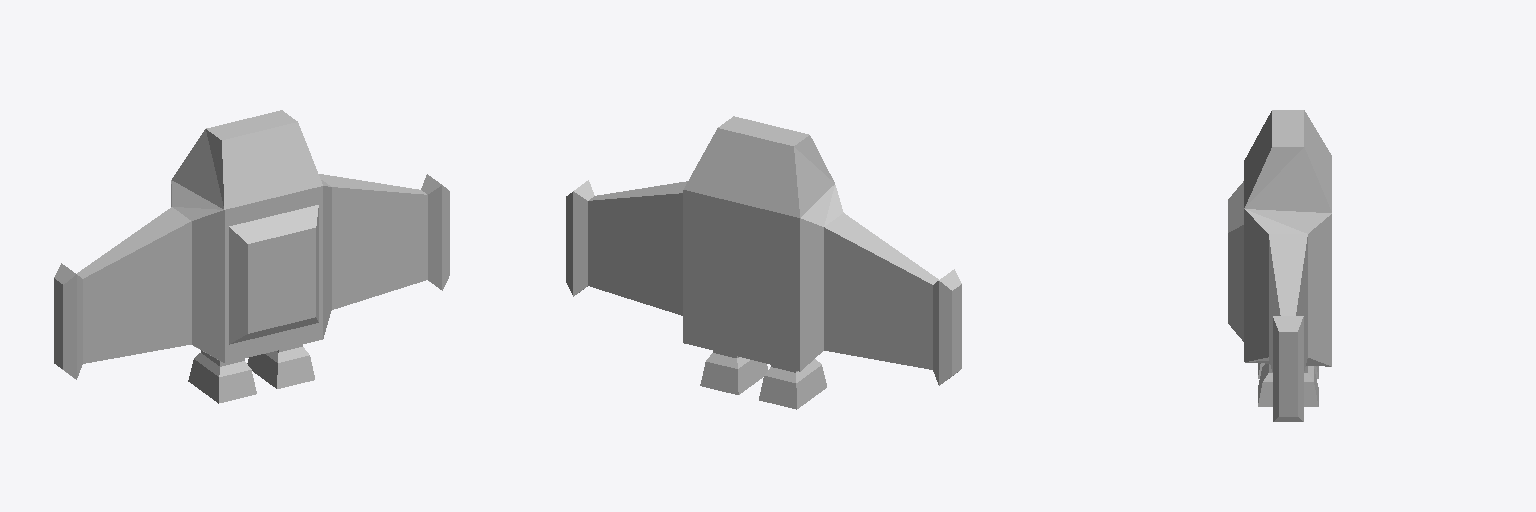
The model's file is nave_jugador.obj.
The picture shows the model from 3 angles: view 1: azimuth 30°, elevation 25°; view 2: azimuth 150°, elevation 25°; view 3: azimuth 270°, elevation 25°; orthographic projection.
Parts seen in each view (by area): view 1: Cube; view 2: Cube; view 3: Cube.
Boxes of the visible parts, box(x1,y1,x2,y2) form: Cube: box(54, 110, 449, 403); Cube: box(566, 116, 961, 409); Cube: box(1228, 110, 1331, 421).
Size of the model in its own units: 8.52 by 5.38 by 2.